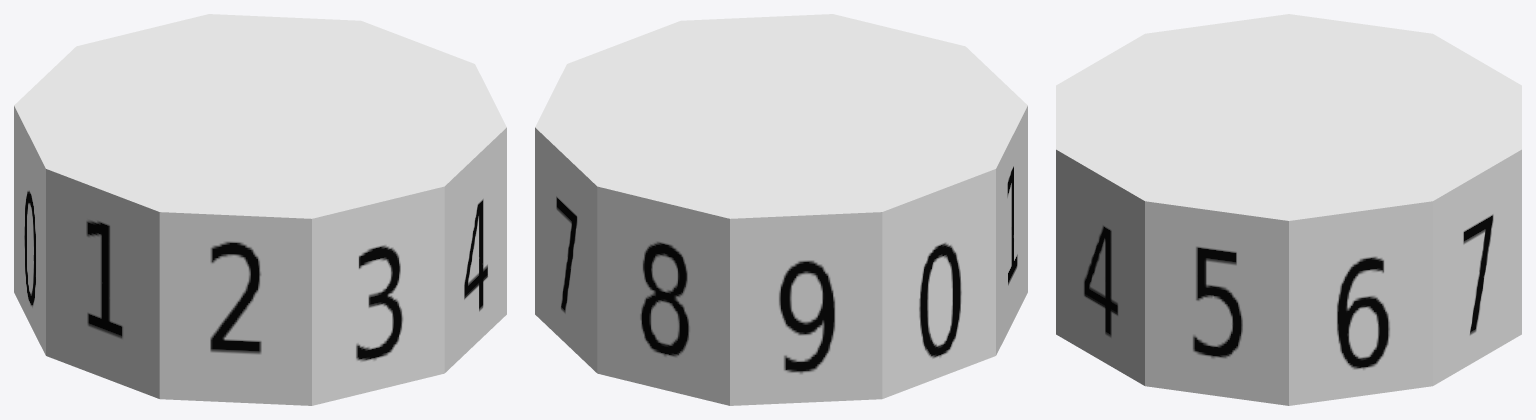
File: NumberWheel_Hor.fbx
3 renders of one model, left to right at view 1: azimuth 30°, elevation 25°; view 2: azimuth 150°, elevation 25°; view 3: azimuth 270°, elevation 25°, orthographic.
Parts seen in each view (by area): view 1: NumberWheel_Hor; view 2: NumberWheel_Hor; view 3: NumberWheel_Hor.
Boxes of the visible parts, <box> form: NumberWheel_Hor: <box>14,14,506,405</box>; NumberWheel_Hor: <box>535,14,1027,405</box>; NumberWheel_Hor: <box>1056,14,1521,405</box>.
Size of the model in its own units: 15 by 6.25 by 14.27.
1 material, 1 textured.
